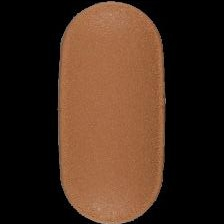0173-0662: (0, 0, 224, 224)
